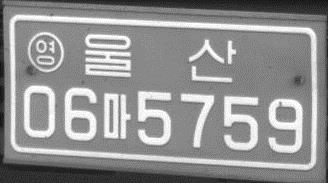0: (22, 84, 56, 138)
5: (222, 94, 260, 152), (135, 88, 172, 146)
6: (63, 85, 97, 142)
7: (178, 91, 215, 149)
9: (267, 97, 304, 155)
마: (102, 91, 132, 140)
영: (26, 31, 65, 73)
울산_D: (82, 31, 237, 85)
